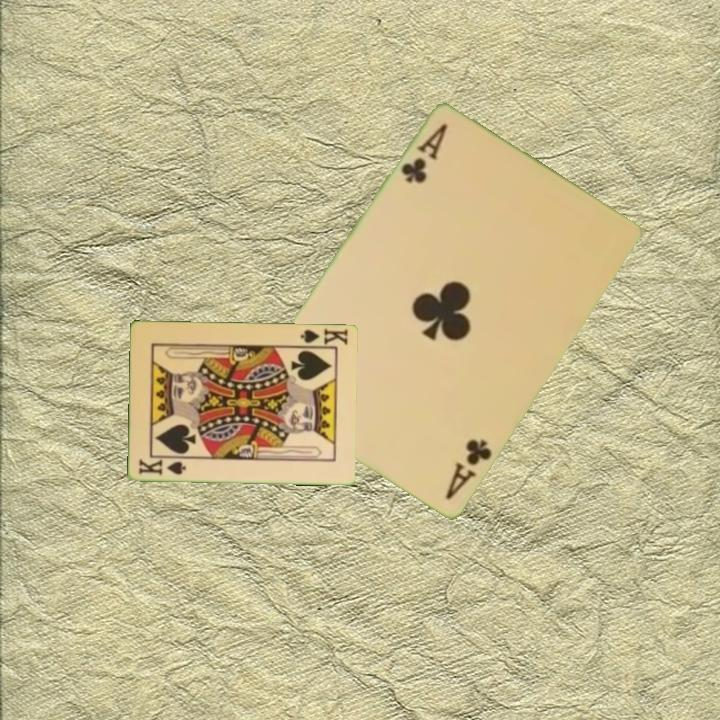Ac: (441, 436, 495, 504), (397, 120, 451, 187)
Ks: (136, 455, 189, 478), (297, 325, 351, 347)
